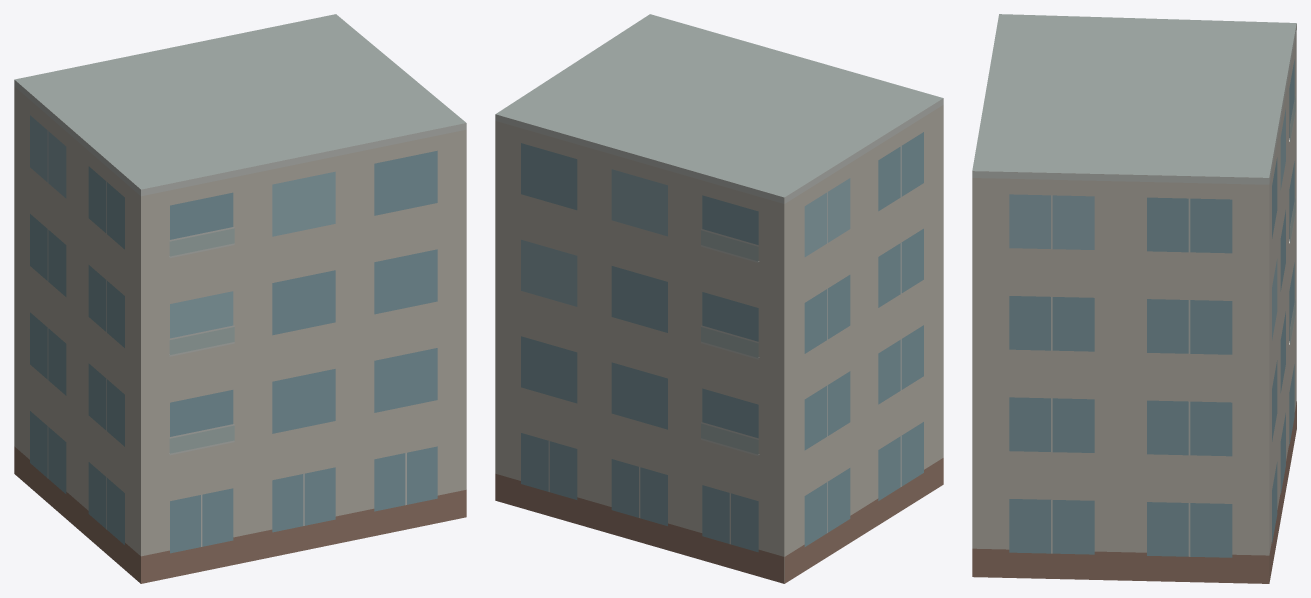
Rendered from survey-upis-33015740.glb.
3 views of the same model, side by side, from view 1: azimuth 30°, elevation 25°; view 2: azimuth 150°, elevation 25°; view 3: azimuth 270°, elevation 25° (orthographic). The views are drawn at different scales.
Visible parts, largest first — view 1: survey-upis-33015740.tmp; view 2: survey-upis-33015740.tmp; view 3: survey-upis-33015740.tmp.
Boxes of the visible parts, left/top/right/bottom form: survey-upis-33015740.tmp: left=14, top=14, right=466, bottom=583; survey-upis-33015740.tmp: left=495, top=14, right=943, bottom=583; survey-upis-33015740.tmp: left=972, top=14, right=1296, bottom=583.
Size of the model in its own units: 12.48 by 14.4 by 10.44.
